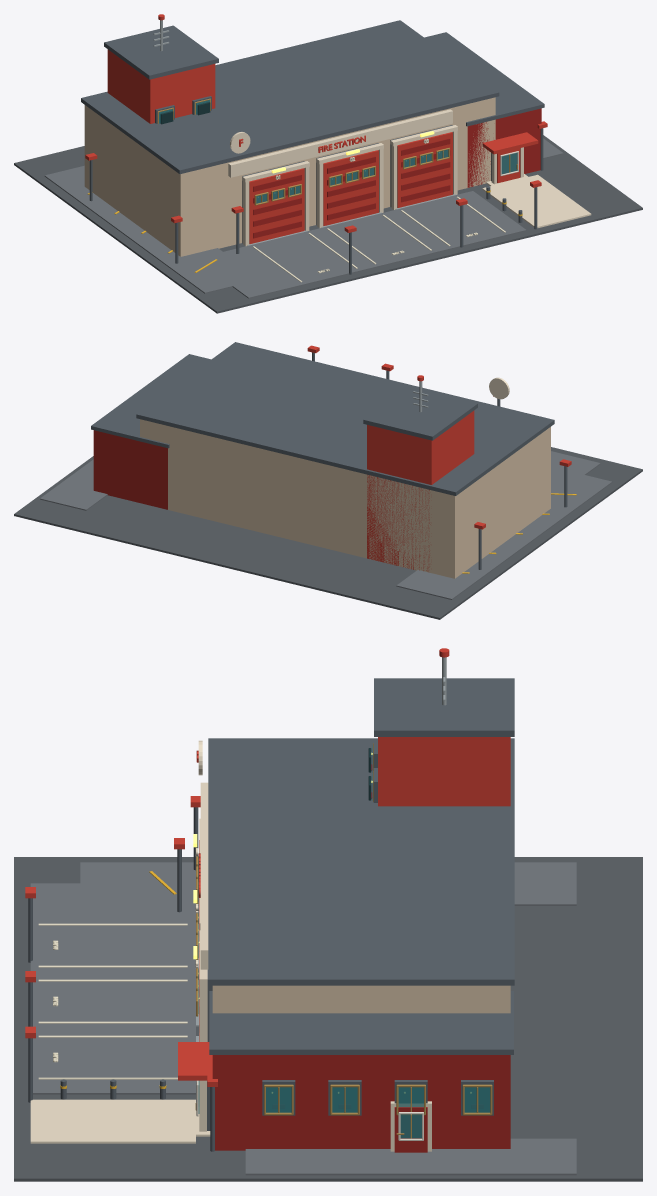
File: fire_station_exterior_canon_v2.glb
3 renders of one model, top to bottom at view 1: azimuth 30°, elevation 25°; view 2: azimuth 150°, elevation 25°; view 3: azimuth 270°, elevation 25°, orthographic. The views are drawn at different scales.
Visible parts, largest first — view 1: Hall_Roof, Apparatus_Hall, Emergency_Apron, Asset_Pad, Watch_Tower, Vehicle_Egress, Tower_Roof, Fire_Sign_Beam, Admin_Roof, Admin_Wing, Public_Walk, Apparatus_Bay_Door_03 (+7 smaller); view 2: Apparatus_Hall, Hall_Roof, Asset_Pad, Watch_Tower, Admin_Wing, Vehicle_Egress, Tower_Roof, Admin_Roof, Service_Access, Emergency_Apron; view 3: Hall_Roof, Asset_Pad, Emergency_Apron, Admin_Wing, Admin_Roof, Service_Access, Watch_Tower, Apparatus_Hall, Tower_Roof, Public_Walk, Vehicle_Egress, Fire_Sign_Beam (+3 smaller).
Boxes of the visible parts, left/top/right/bottom form: Hall_Roof: left=81, top=20, right=499, bottom=174; Apparatus_Hall: left=84, top=97, right=495, bottom=256; Emergency_Apron: left=196, top=191, right=526, bottom=298; Asset_Pad: left=14, top=135, right=642, bottom=313; Watch_Tower: left=107, top=49, right=215, bottom=123; Vehicle_Egress: left=44, top=165, right=246, bottom=293; Tower_Roof: left=104, top=25, right=218, bottom=79; Fire_Sign_Beam: left=228, top=109, right=452, bottom=177; Admin_Roof: left=424, top=32, right=544, bottom=126; Admin_Wing: left=467, top=108, right=541, bottom=187; Public_Walk: left=482, top=174, right=591, bottom=228; Apparatus_Bay_Door_03: left=397, top=132, right=452, bottom=207; Apparatus_Hall: left=140, top=419, right=550, bottom=578; Hall_Roof: left=136, top=342, right=554, bottom=495; Asset_Pad: left=14, top=447, right=642, bottom=619; Watch_Tower: left=367, top=410, right=474, bottom=571; Admin_Wing: left=93, top=430, right=167, bottom=509; Vehicle_Egress: left=396, top=475, right=612, bottom=599; Tower_Roof: left=363, top=386, right=477, bottom=440; Admin_Roof: left=91, top=354, right=210, bottom=448; Service_Access: left=40, top=459, right=107, bottom=510; Emergency_Apron: left=551, top=451, right=600, bottom=498; Hall_Roof: left=208, top=738, right=514, bottom=985; Asset_Pad: left=14, top=857, right=642, bottom=1181; Emergency_Apron: left=30, top=883, right=195, bottom=1094; Admin_Wing: left=212, top=1055, right=510, bottom=1150; Admin_Roof: left=209, top=991, right=513, bottom=1054; Service_Access: left=245, top=1138, right=576, bottom=1175; Watch_Tower: left=378, top=737, right=510, bottom=806; Apparatus_Hall: left=212, top=985, right=510, bottom=1013; Tower_Roof: left=374, top=678, right=514, bottom=736; Public_Walk: left=30, top=1099, right=195, bottom=1143; Vehicle_Egress: left=80, top=862, right=576, bottom=905; Fire_Sign_Beam: left=200, top=782, right=208, bottom=969.
Bounding box in the file's own units: 46 × 18.17 × 38.
